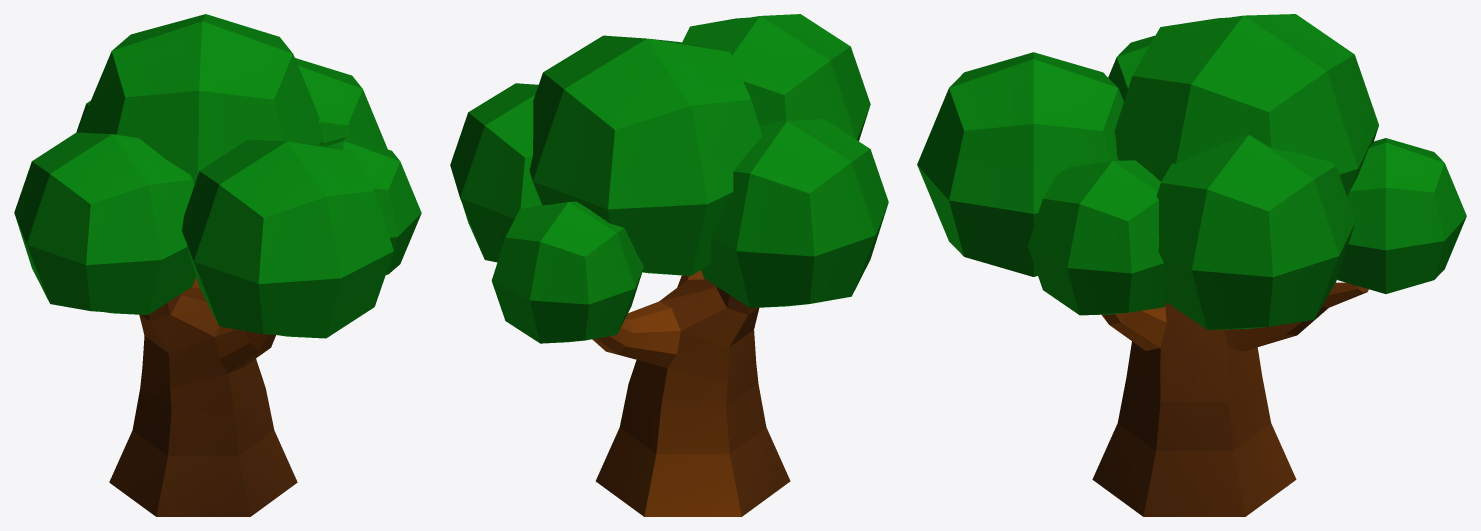
File: Three2Model.fbx
3 views of the same model, side by side, from view 1: azimuth 30°, elevation 25°; view 2: azimuth 150°, elevation 25°; view 3: azimuth 270°, elevation 25° (orthographic). The views are drawn at different scales.
Parts seen in each view (by area): view 1: Cylinder; view 2: Cylinder; view 3: Cylinder.
Boxes of the visible parts, x1,y1,x2,y2 form: Cylinder: (14,14,421,516); Cylinder: (450,14,888,516); Cylinder: (917,14,1466,516).
Bounding box in the file's own units: 6.62 × 7.4 × 7.76.
Materials: 2 (2 with a texture image).
